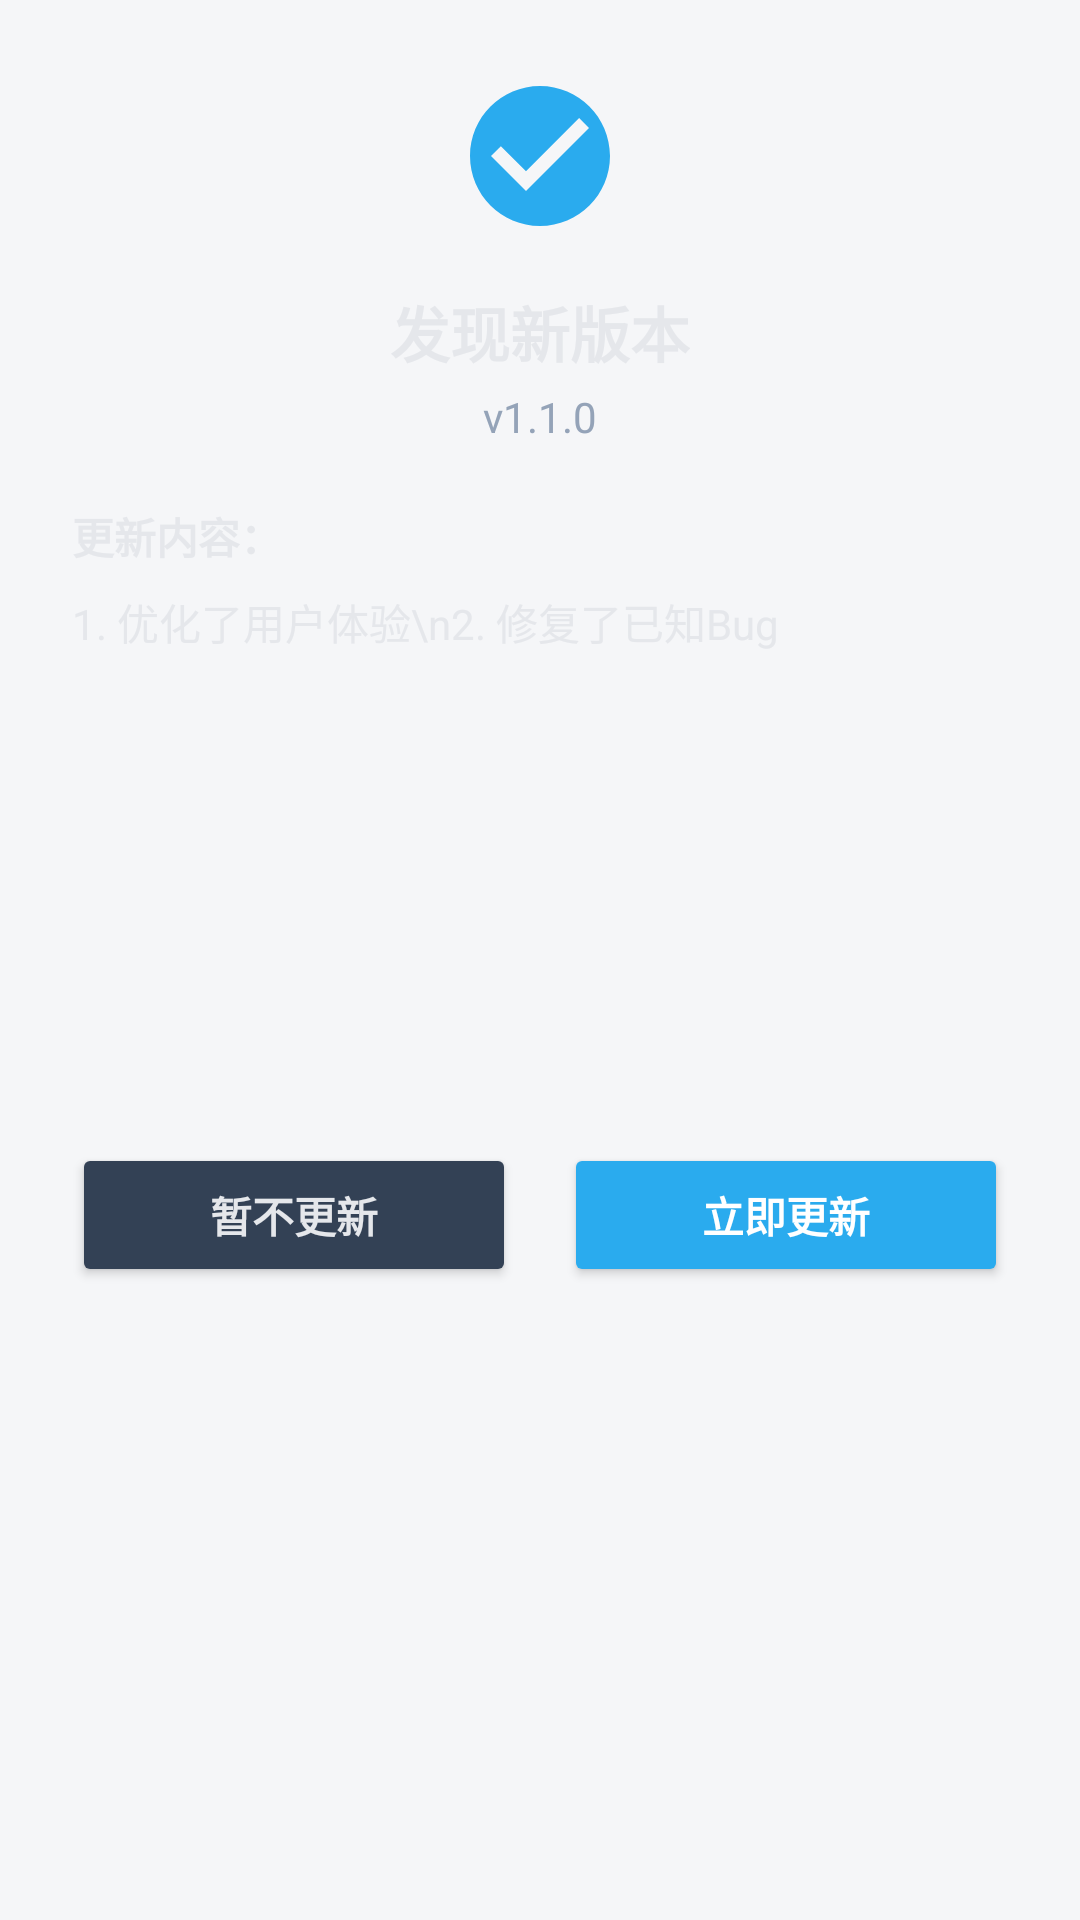

Where icons sit on this 1080*1920 app screen, as (x1, y1, x2, y2):
success: (470, 86, 610, 226)
